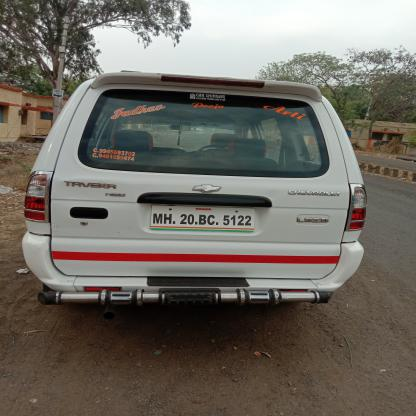Number_Plate_Detected: (146, 206, 259, 232)
